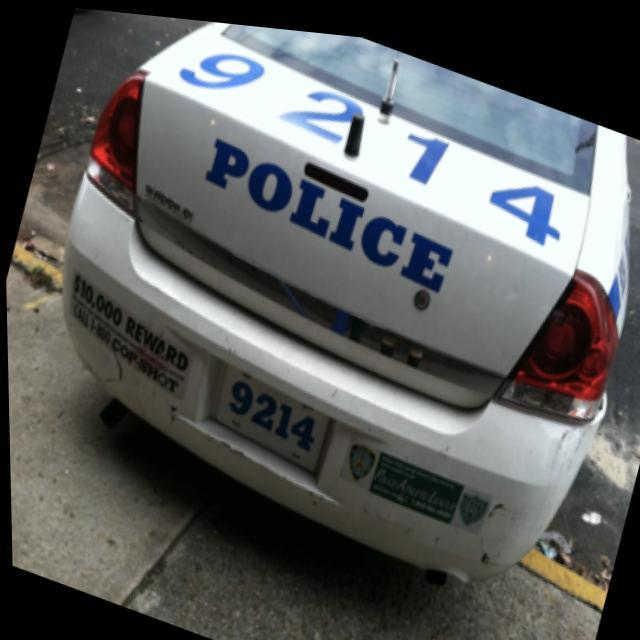license_plate: (202, 357, 334, 478)
